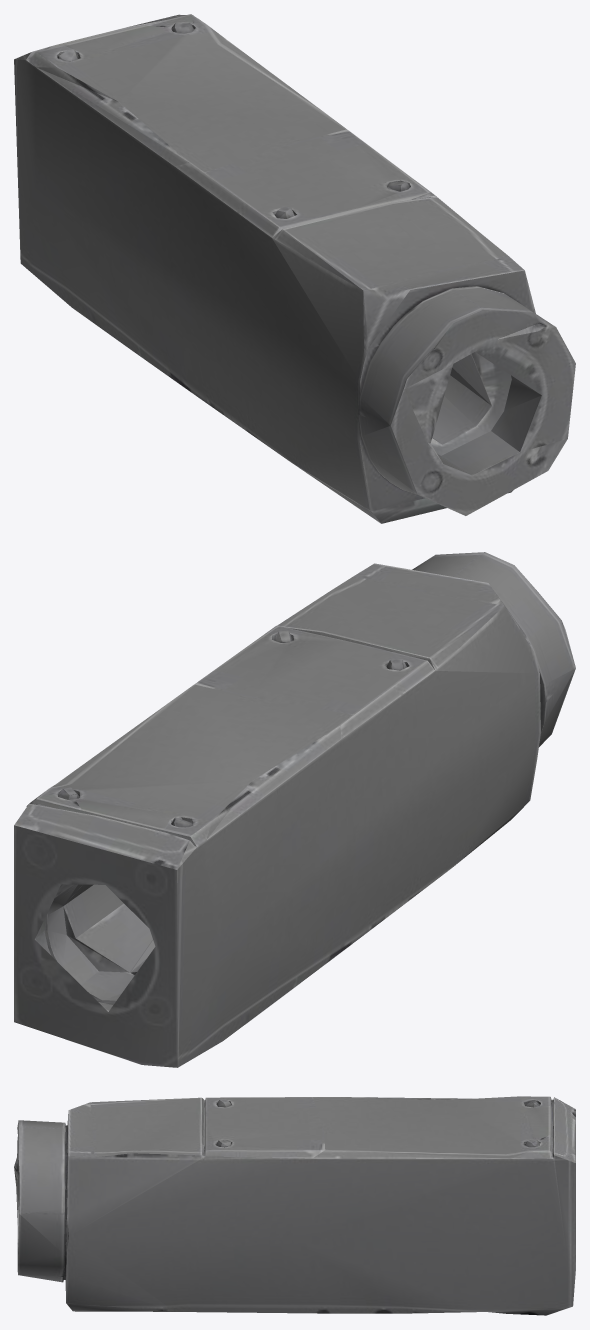
Rendered from shared_flak_tower_compact_option__elevation_cradle_lod1.glb.
The picture shows the model from 3 angles, top to bottom: view 1: azimuth 30°, elevation 25°; view 2: azimuth 150°, elevation 25°; view 3: azimuth 270°, elevation 25°; orthographic projection. The views are drawn at different scales.
Visible parts, largest first — view 1: mesh_node; view 2: mesh_node; view 3: mesh_node.
Part boxes in pixels (<box>): mesh_node: <box>14,14,575,523</box>; mesh_node: <box>14,552,575,1067</box>; mesh_node: <box>14,1096,575,1315</box>.
Bounding box in the file's own units: 0.6458 × 0.7638 × 2.3.
1 material, 1 textured.
